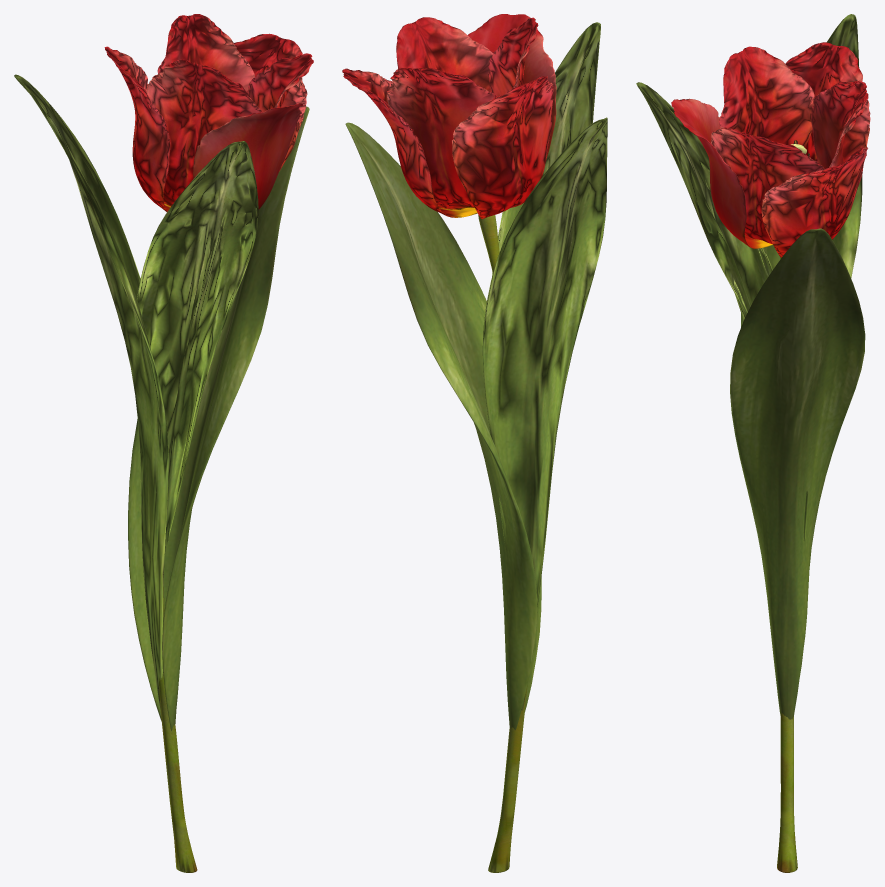
File: tulip.gltf
The picture shows the model from 3 angles, left to right: view 1: azimuth 30°, elevation 25°; view 2: azimuth 150°, elevation 25°; view 3: azimuth 270°, elevation 25°; orthographic projection. The views are drawn at different scales.
Visible parts, largest first — view 1: 12978_tulip_flower_l3; view 2: 12978_tulip_flower_l3; view 3: 12978_tulip_flower_l3.
Boxes of the visible parts, box(x1,y1,x2,y2) form: 12978_tulip_flower_l3: box(14, 14, 313, 872); 12978_tulip_flower_l3: box(342, 14, 607, 872); 12978_tulip_flower_l3: box(636, 14, 870, 872).
Size of the model in its own units: 0.2944 by 0.8446 by 0.2206.
3 materials, 3 textured.
